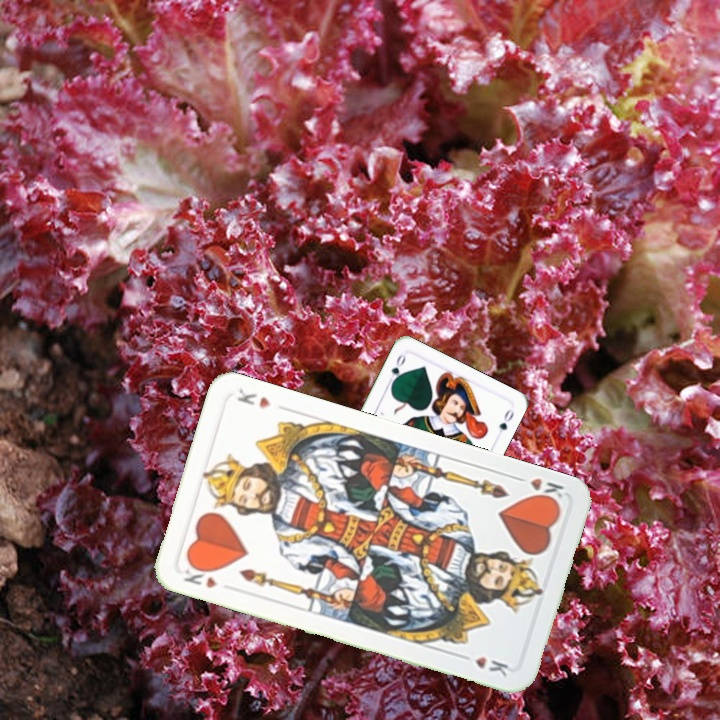GO: (383, 350, 408, 389)
HK: (510, 472, 567, 507), (179, 560, 220, 591)
